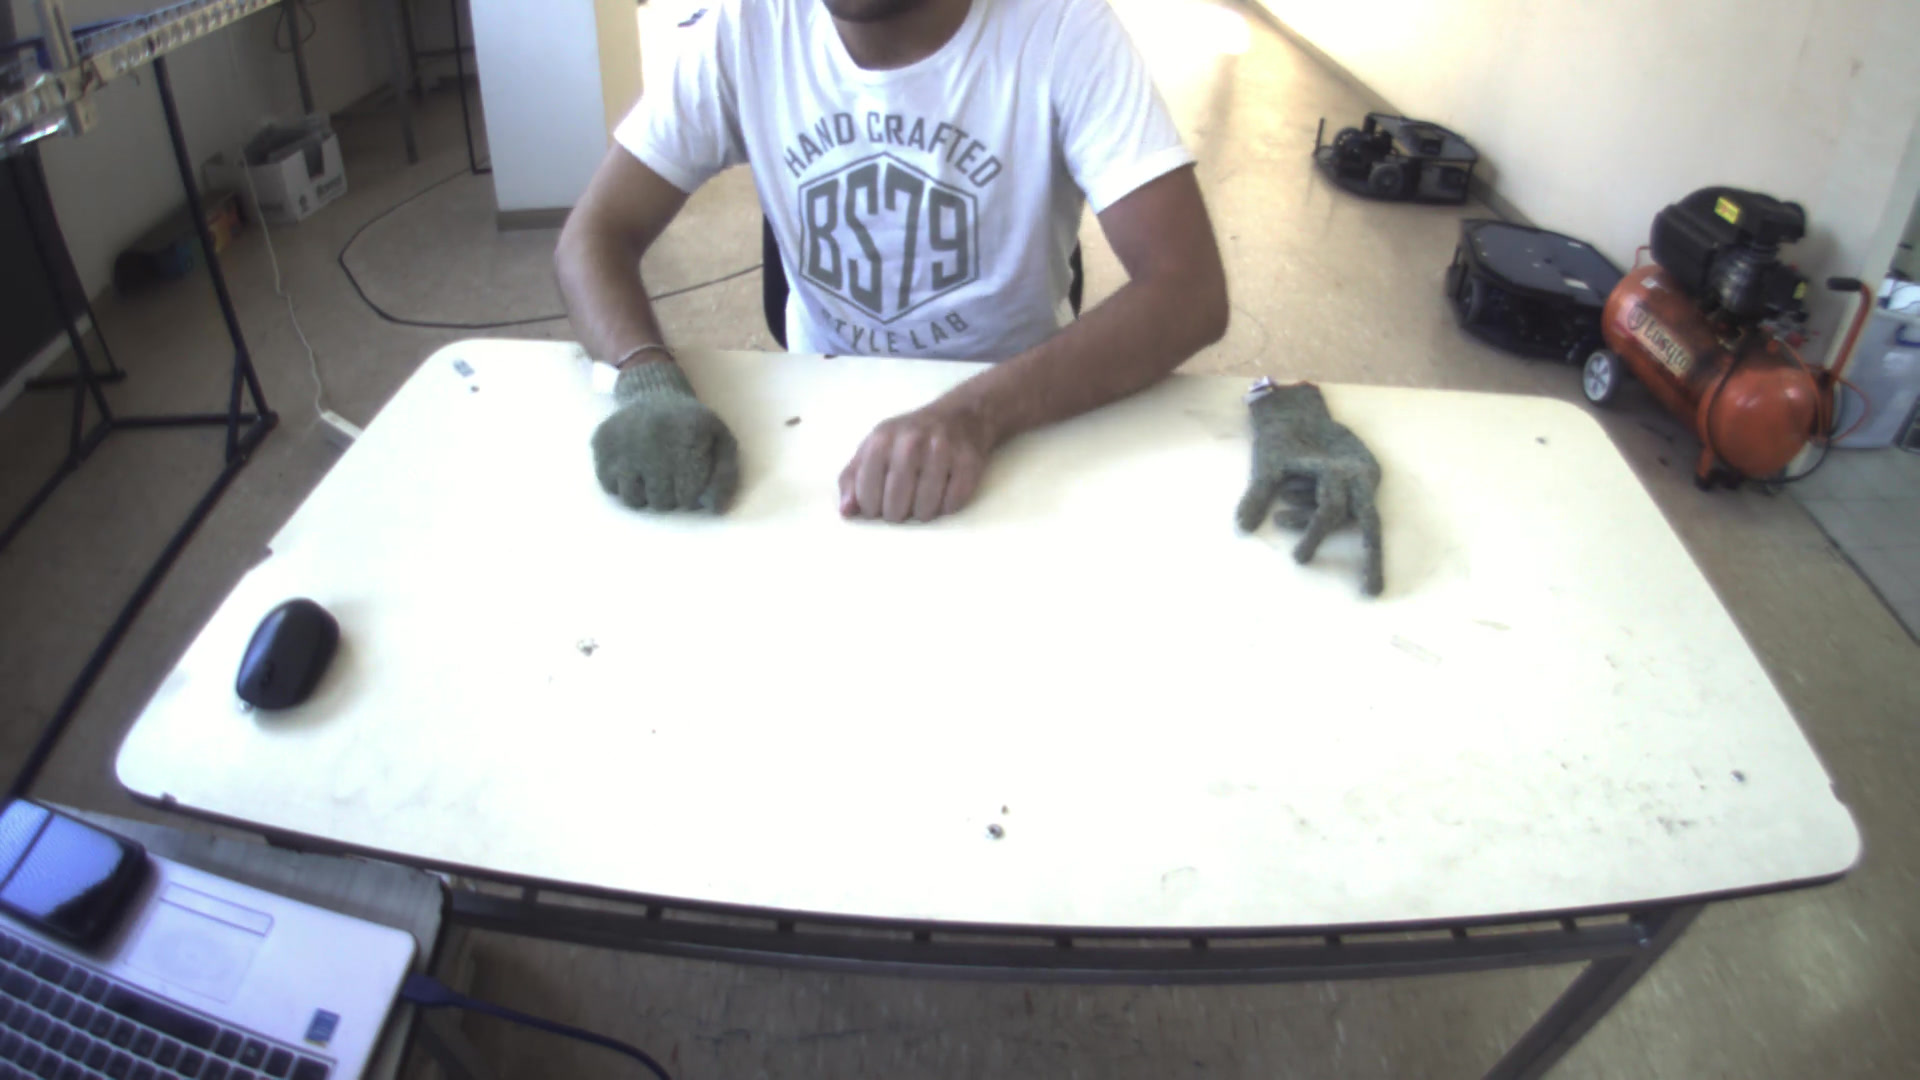hand: (580, 336, 738, 520), (833, 371, 992, 526)
